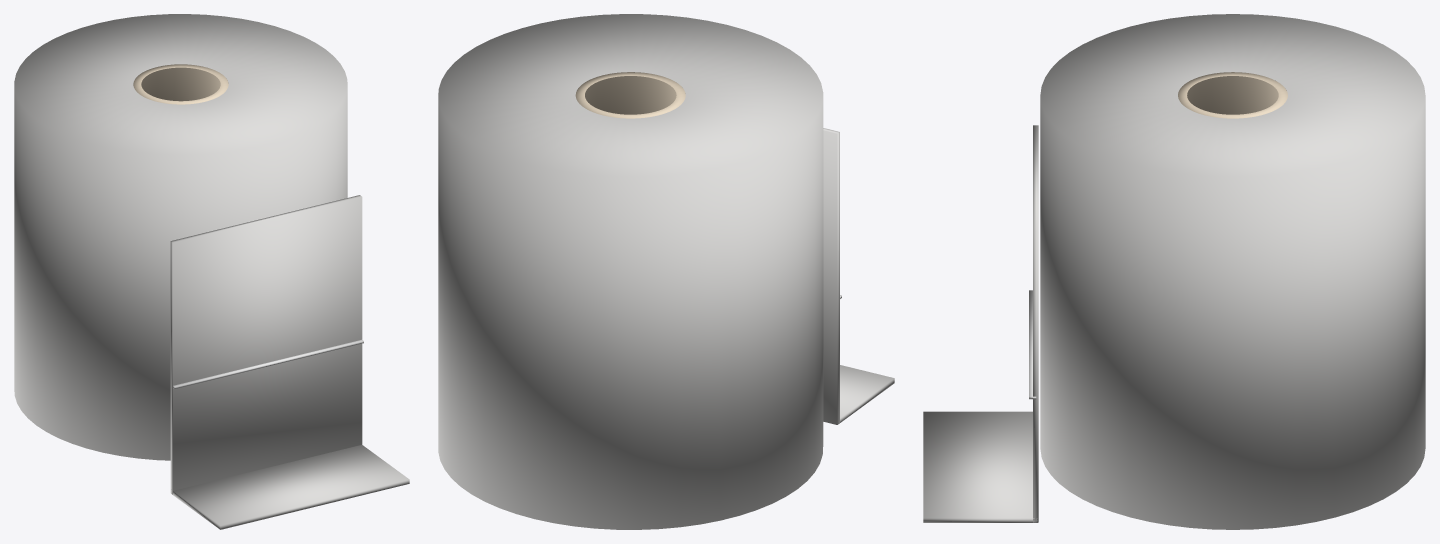
The model's file is toilet-paper.glb.
3 views of the same model, side by side, from view 1: azimuth 30°, elevation 25°; view 2: azimuth 150°, elevation 25°; view 3: azimuth 270°, elevation 25° (orthographic). The views are drawn at different scales.
Parts seen in each view (by area): view 1: part0, part1, part3; view 2: part0, part1; view 3: part0, part1.
Part boxes in pixels (x1=…): part0: x1=14, y1=14, x2=409, y2=529; part1: x1=133, y1=64, x2=228, y2=104; part3: x1=173, y1=339, x2=363, y2=388; part0: x1=438, y1=14, x2=894, y2=529; part1: x1=575, y1=72, x2=685, y2=118; part0: x1=923, y1=14, x2=1425, y2=529; part1: x1=1178, y1=72, x2=1287, y2=118.
Size of the model in its own units: 0.7671 by 0.8228 by 1.
